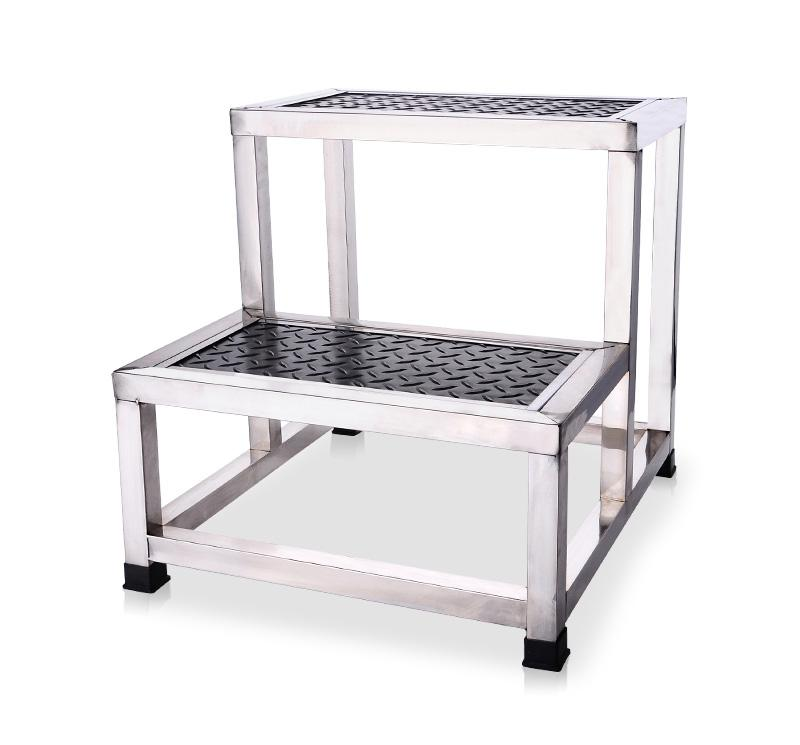stool: (102, 82, 690, 675)
